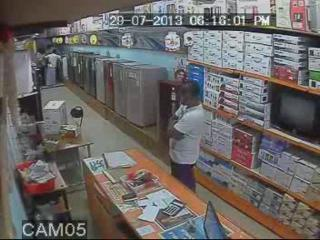Normal: (167, 80, 206, 192), (268, 87, 320, 147)
